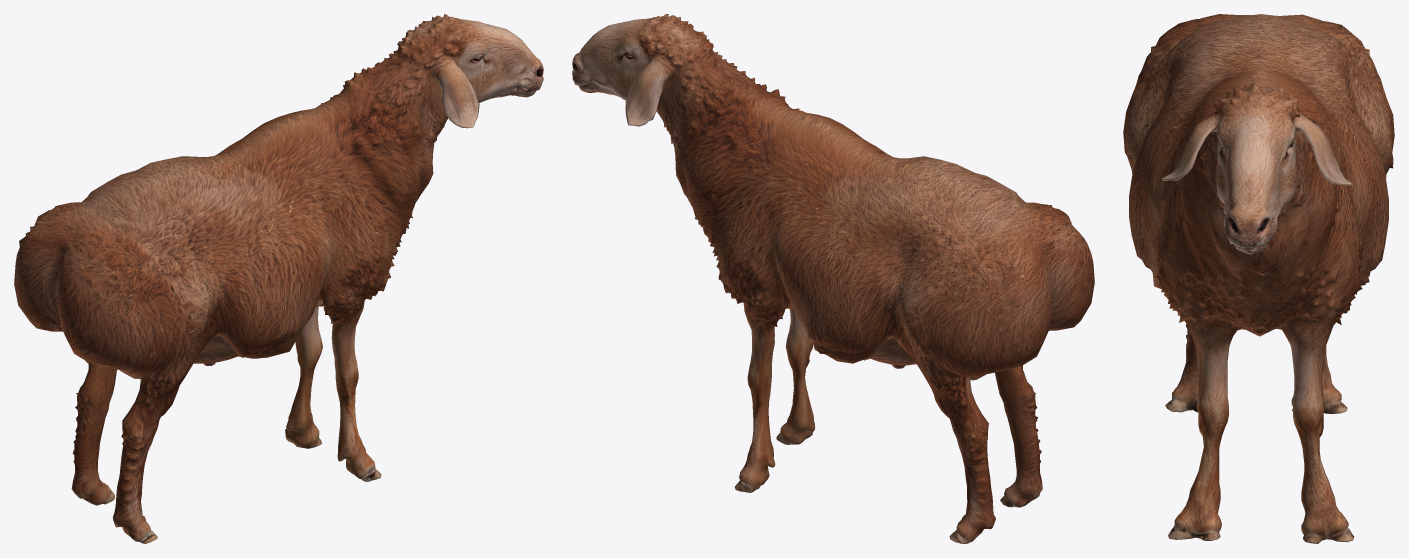
3 renders of one model, left to right at view 1: azimuth 30°, elevation 25°; view 2: azimuth 150°, elevation 25°; view 3: azimuth 270°, elevation 25°, orthographic. The views are drawn at different scales.
Parts seen in each view (by area): view 1: Model_0; view 2: Model_0; view 3: Model_0.
Part boxes in pixels (x1,y1,x2,y2): Model_0: (14,14,543,543); Model_0: (572,14,1094,543); Model_0: (1123,14,1394,543).
Bounding box in the file's own units: 1 × 0.816 × 0.3816.
1 material, 1 textured.
